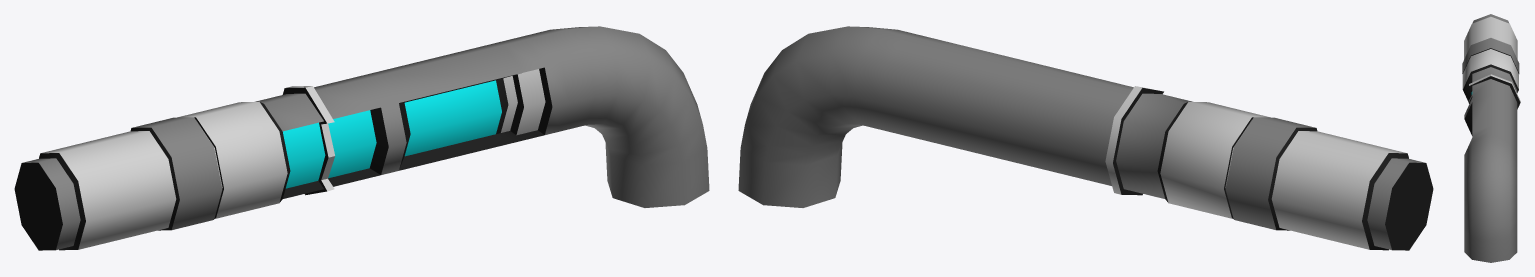
The model's file is Pipe_008.fbx.
3 views of the same model, side by side, from view 1: azimuth 30°, elevation 25°; view 2: azimuth 150°, elevation 25°; view 3: azimuth 270°, elevation 25° (orthographic). The views are drawn at different scales.
Parts seen in each view (by area): view 1: Pipe_008; view 2: Pipe_008; view 3: Pipe_008.
Part boxes in pixels (bbox=[...]): Pipe_008: bbox=[14, 26, 709, 250]; Pipe_008: bbox=[738, 26, 1433, 250]; Pipe_008: bbox=[1462, 14, 1520, 262].
Bounding box in the file's own units: 1003 × 267 × 152.
